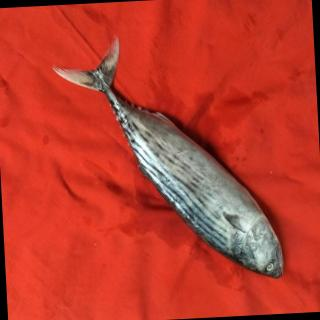Ikan: (51, 30, 297, 300)
